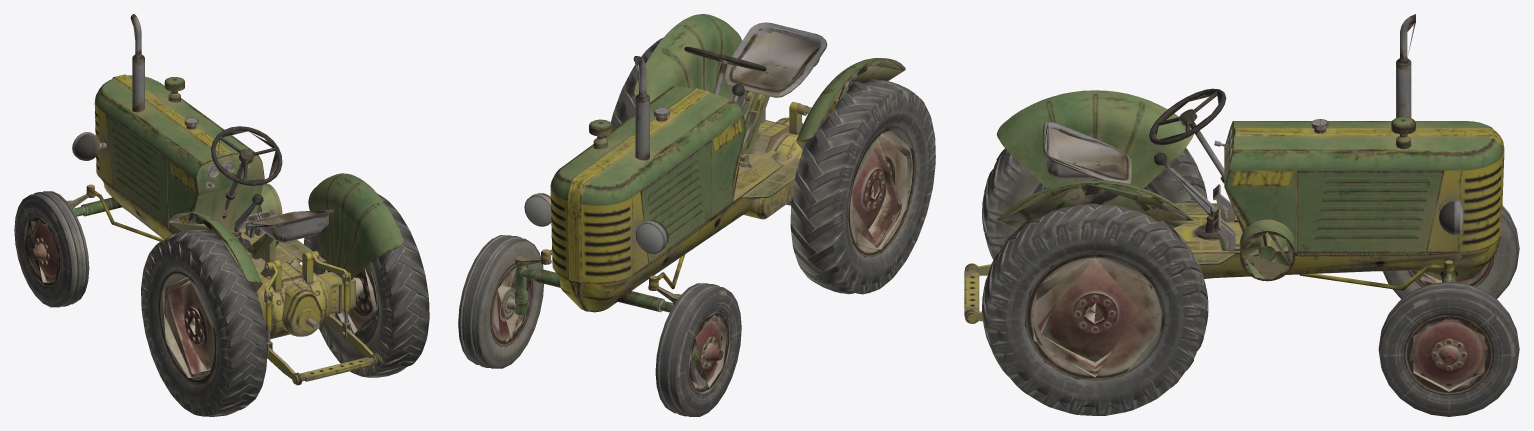
Rendered from tractor.glb.
3 renders of one model, left to right at view 1: azimuth 30°, elevation 25°; view 2: azimuth 150°, elevation 25°; view 3: azimuth 270°, elevation 25°, orthographic. The views are drawn at different scales.
Visible parts, largest first — view 1: kit0, far, kit1; view 2: kit0, far, kit1; view 3: kit0, far, kit1.
Boxes of the visible parts, <box> form: kit0: <box>14,14,429,416</box>; far: <box>24,28,429,416</box>; kit1: <box>19,20,418,414</box>; kit0: <box>458,14,935,416</box>; far: <box>493,23,935,390</box>; kit1: <box>478,23,933,395</box>; kit0: <box>964,14,1519,416</box>; far: <box>964,22,1500,415</box>; kit1: <box>964,23,1501,412</box>.
Size of the model in its own units: 2.1 by 2.69 by 4.
1 material, 1 textured.
